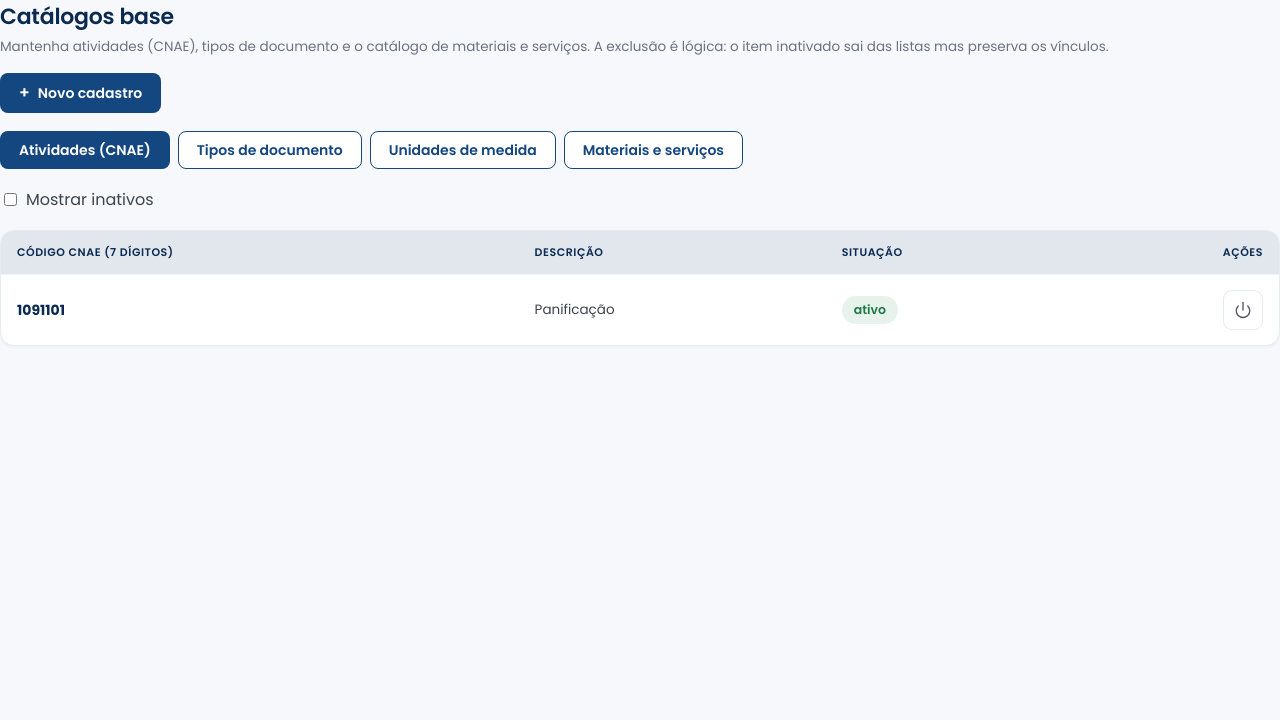
ManterCatalogos — Painel Admin de catálogos (UC020) › a listagem aparece sem o formulário na frente; o cadastro só abre sob demanda
Expected: the table with test id "tabela-catalogo" is shown, [1,231,1279,345]
Click the button with test id "novo-cadastro" at [81, 93], box [0,73,161,113]
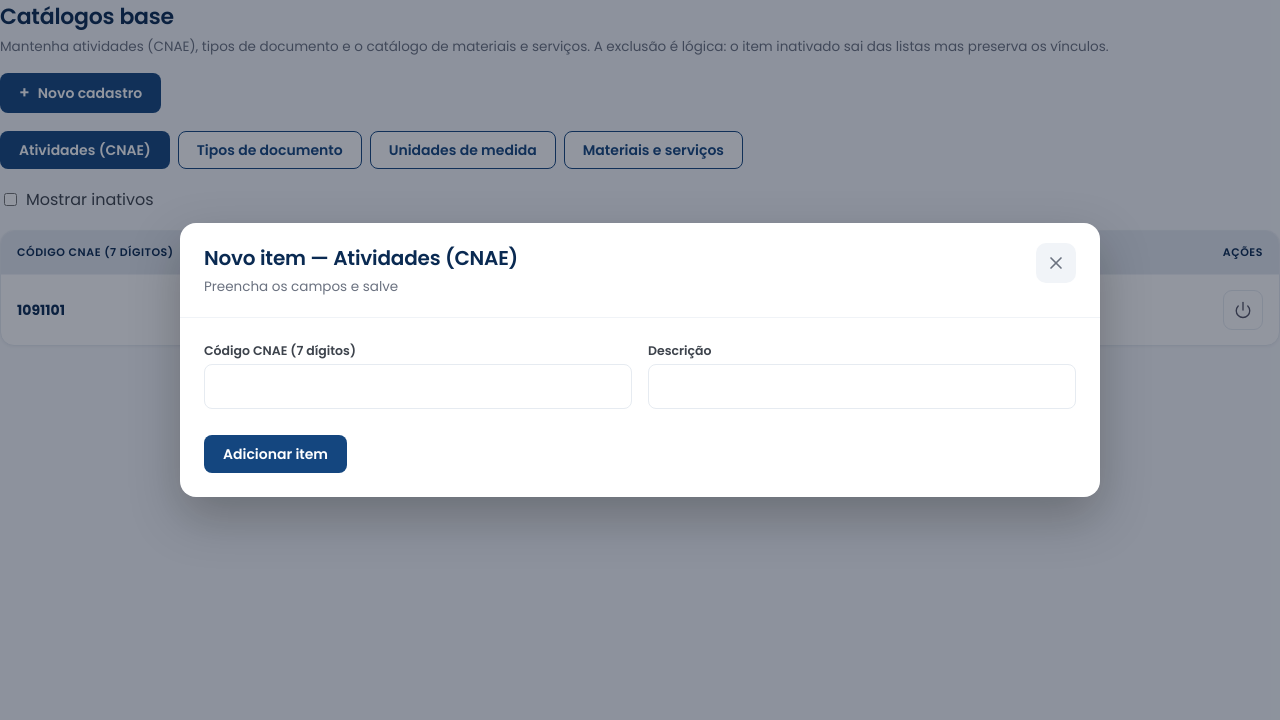
Expected: the dialog with test id "modal-catalogo" is shown, [180,223,1100,497]
Expected: the form with test id "form-catalogo" is shown, [204,342,1076,473]
Click the button with test id "fechar-modal" at [1056, 263], box [1036,243,1076,283]
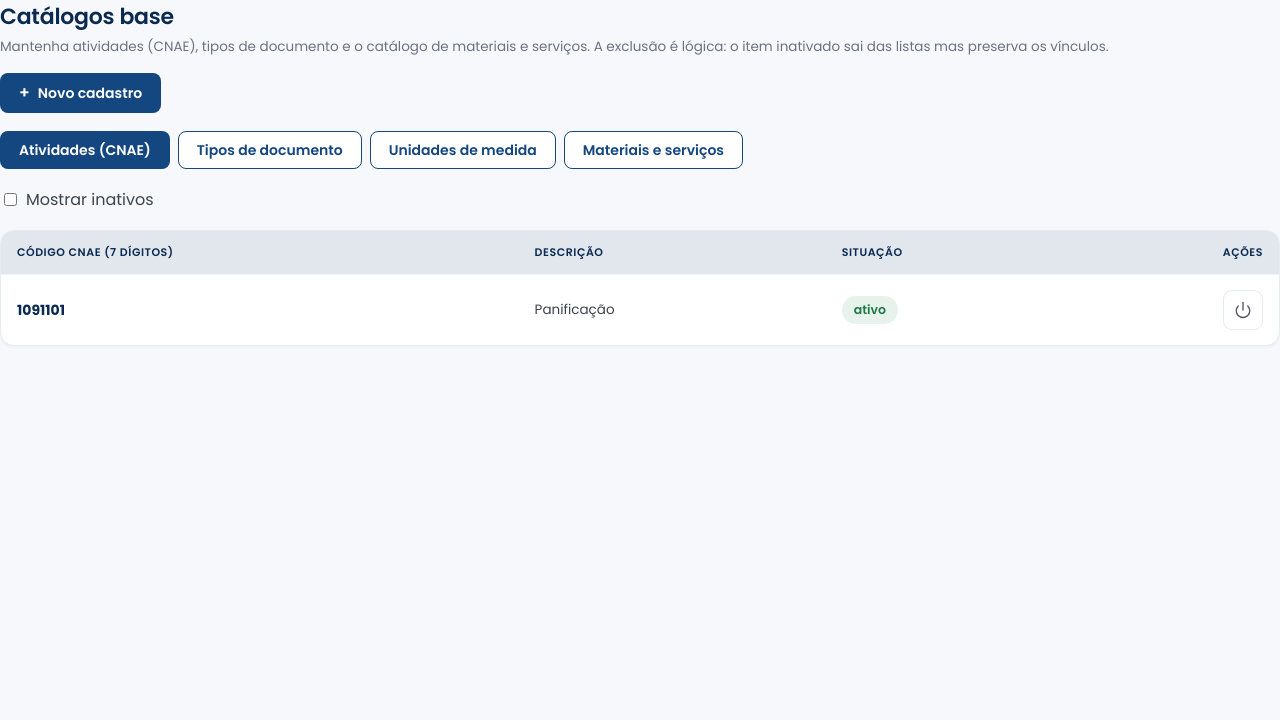
Expected: the dialog with test id "modal-catalogo" is gone
